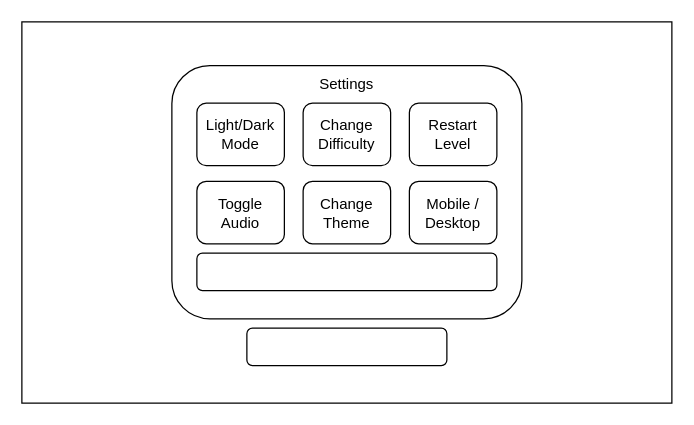
This 694x425 diagram has some shape labels left out. The centre of each missing label's shape, as x and y in pixels:
Exit: (346,346)
Volume Slider: (346,271)
